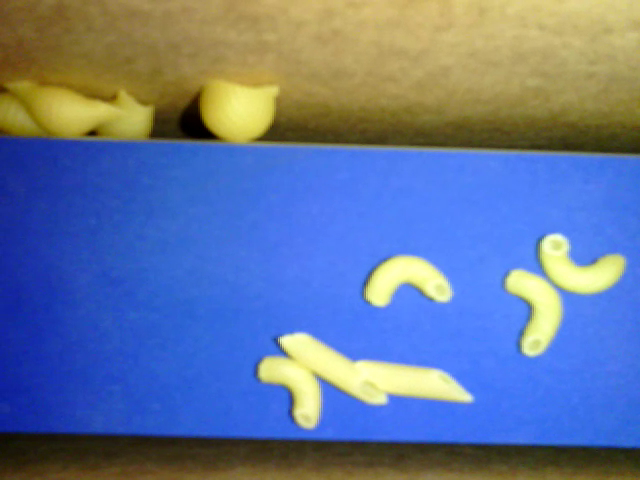elbow: (254, 353, 324, 432), (537, 233, 627, 294), (362, 252, 453, 312), (503, 268, 564, 356)
penne: (275, 329, 389, 405), (350, 356, 475, 403)
shell: (1, 78, 129, 139), (194, 78, 280, 143), (92, 88, 156, 140), (1, 91, 50, 136)
